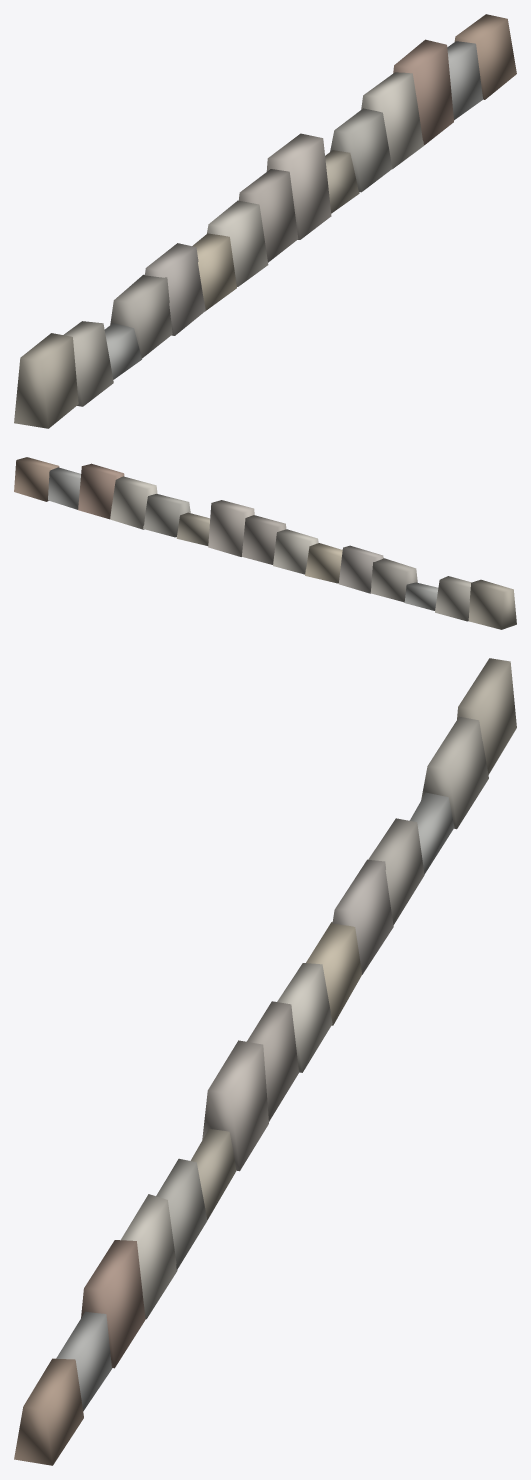
Rendered from farm_-3_-7_far.glb.
The picture shows the model from 3 angles, top to bottom: view 1: azimuth 90°, elevation 25°; view 2: azimuth 150°, elevation 25°; view 3: azimuth 270°, elevation 25°; orthographic projection. The views are drawn at different scales.
Parts seen in each view (by area): view 1: geometry_0; view 2: geometry_0; view 3: geometry_0.
Boxes of the visible parts, x1,y1,x2,y2 form: geometry_0: [14, 14, 516, 428]; geometry_0: [14, 457, 516, 629]; geometry_0: [14, 658, 516, 1465].
Size of the model in its own units: 22.56 by 4.92 by 8.7.
